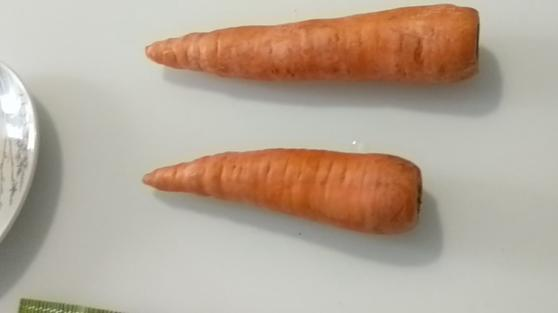carrot: (145, 1, 480, 87), (141, 147, 422, 235)
